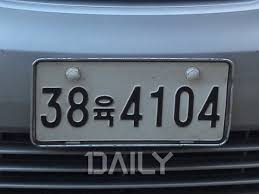plate: (34, 61, 226, 145)
